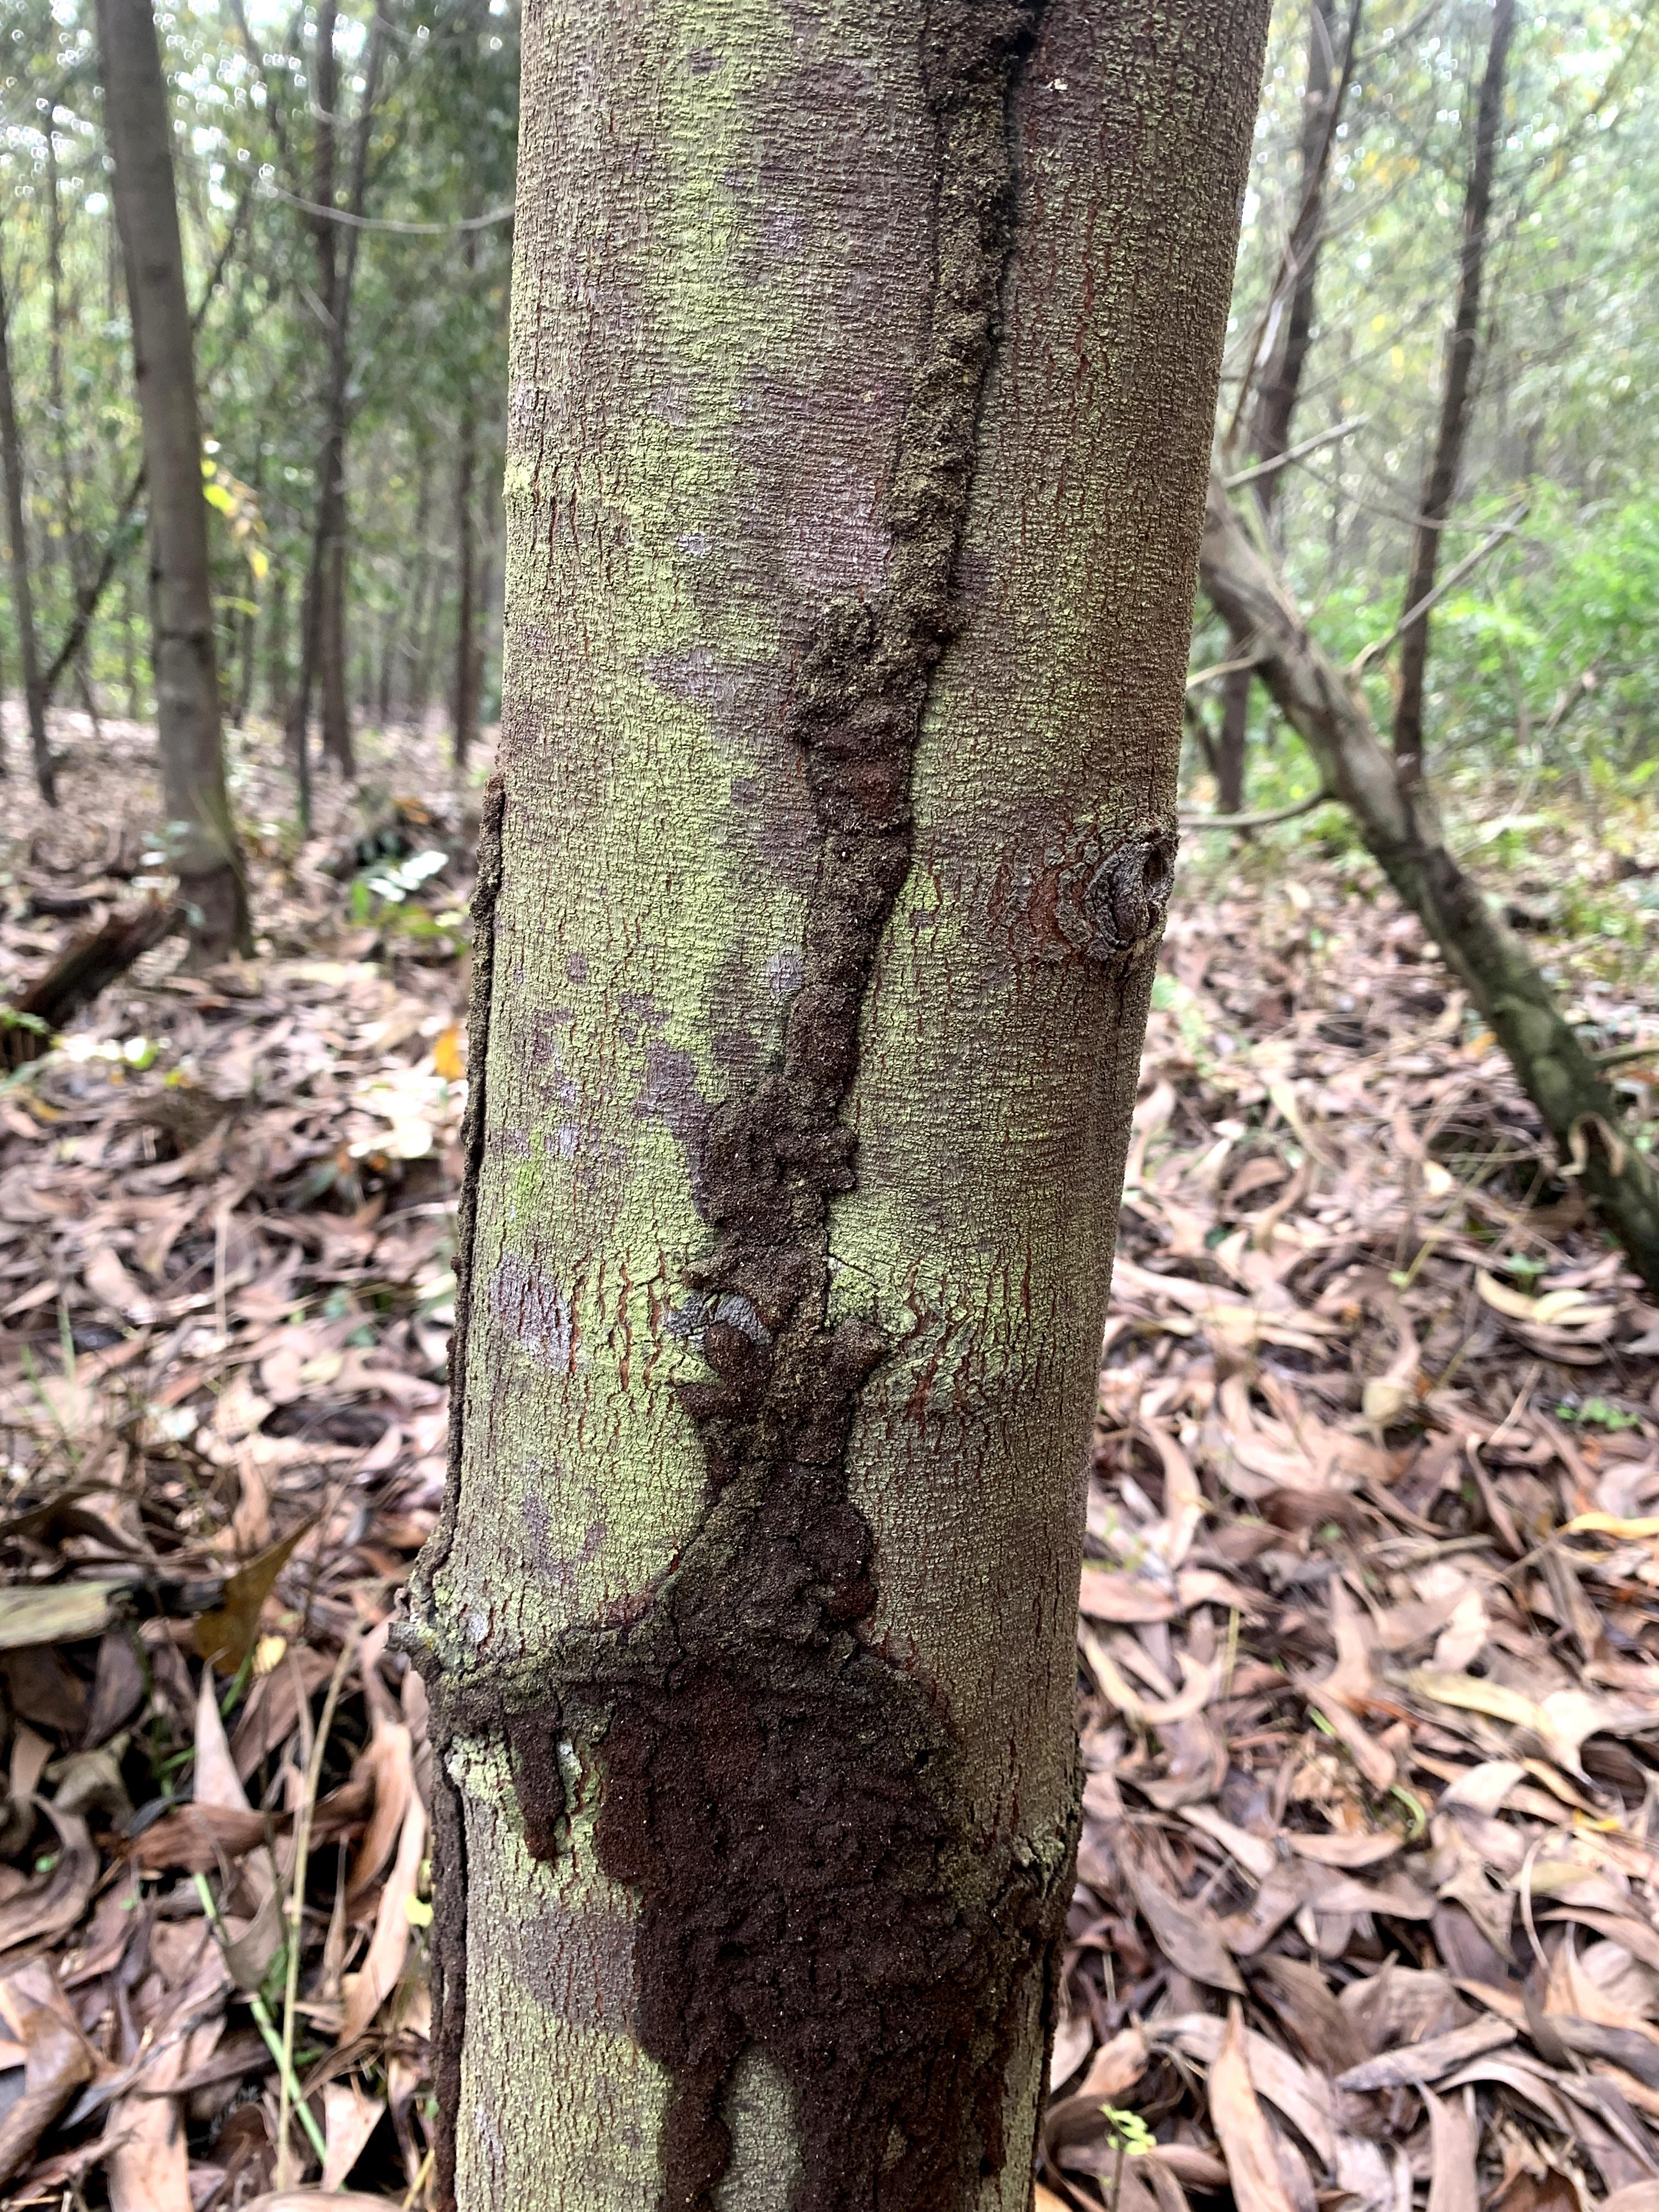Termite - Nest: (490, 0, 1060, 2212)
